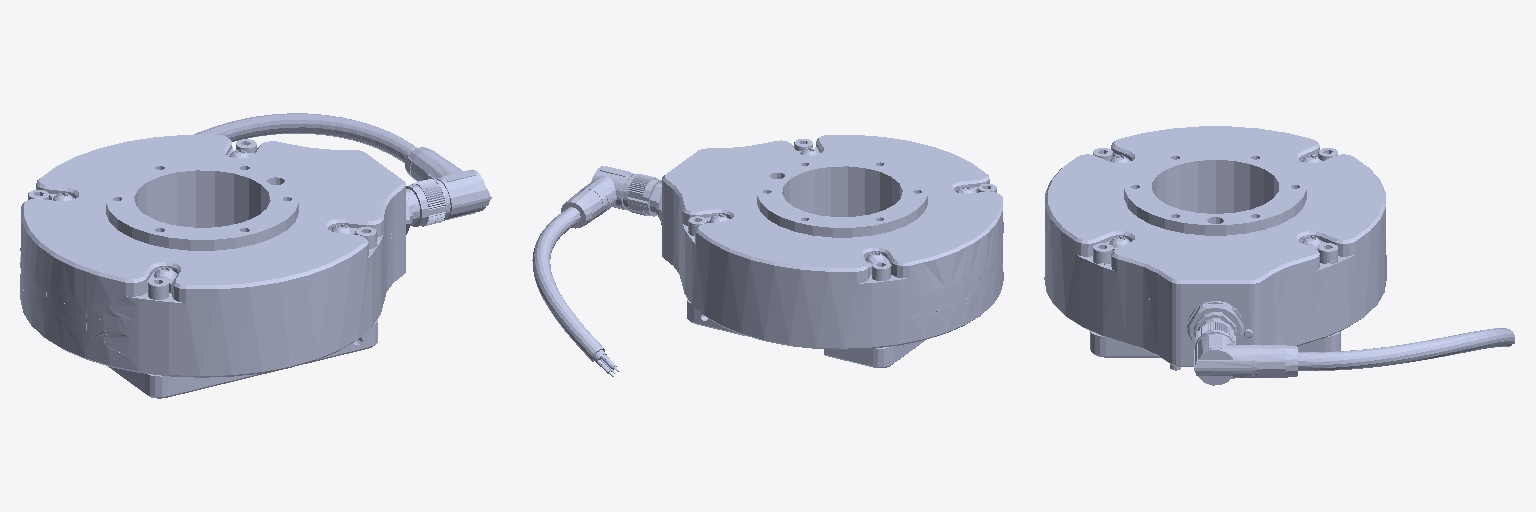
The robot description file, URDF, robot "robotiq_sensor_ft_150":
<?xml version="1.0"?>
<robot name="robotiq_sensor_ft_150">
	<link name="base_link">
		<inertial>
			<origin xyz="0.00488219806659017 -0.0231670070644895 -0.000115077525975578" rpy="0 0 0" />
			<mass value="0.401516952346595" />
			<inertia
				ixx="0.000444366413738052"
				ixy="3.10223375121681E-06"
				ixz="-2.37931602812798E-05"
				iyy="0.000904753267135545"
				iyz="-4.25153794452775E-06"
				izz="0.000569740867968783" />
		</inertial>
		<visual>
			<origin xyz="0 0 0" rpy="0 0 0" />
			<geometry>
				<mesh filename="package://robotiq_sensor_ft_150/meshes/base_link.STL" />
			</geometry>
			<material name="">
				<color rgba="0.792156862745098 0.819607843137255 0.933333333333333 1" />
			</material>
		</visual>
		<collision>
			<origin xyz="0 0 0" rpy="0 0 0" />
			<geometry>
				<mesh filename="package://robotiq_sensor_ft_150/meshes/base_link.STL" />
			</geometry>
		</collision>
	</link>
</robot>

--- Render facts (derived) ---
The picture shows the robot from 3 angles, left to right: view 1: azimuth 30°, elevation 25°; view 2: azimuth 150°, elevation 25°; view 3: azimuth 270°, elevation 25°; orthographic projection.
Robot: robotiq_sensor_ft_150 — 1 links, 0 joints (none); root link base_link; default pose: every joint at zero.
Visible links, largest first — view 1: base_link; view 2: base_link; view 3: base_link.
Boxes of the visible links, x1,y1,x2,y2 form: base_link: (20, 113, 491, 398); base_link: (532, 135, 1003, 376); base_link: (1044, 126, 1514, 385).
Bounding box of the posed robot: 0.1658 × 0.1652 × 0.059 m (x, y, z).
1 mesh visuals loaded from 1 distinct referenced files (1 binary STL).